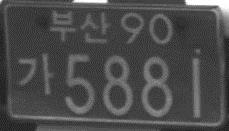0: (149, 12, 175, 45)
1: (187, 56, 205, 119)
5: (63, 53, 95, 114)
8: (140, 55, 174, 118), (101, 54, 134, 116)
9: (119, 11, 145, 45)
가: (16, 51, 54, 98)
부산_O: (48, 9, 111, 44)
